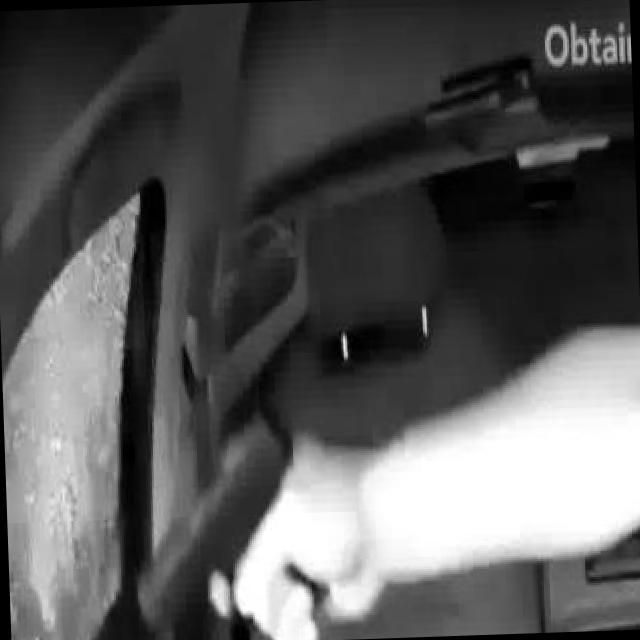Guns: (106, 394, 369, 638)
